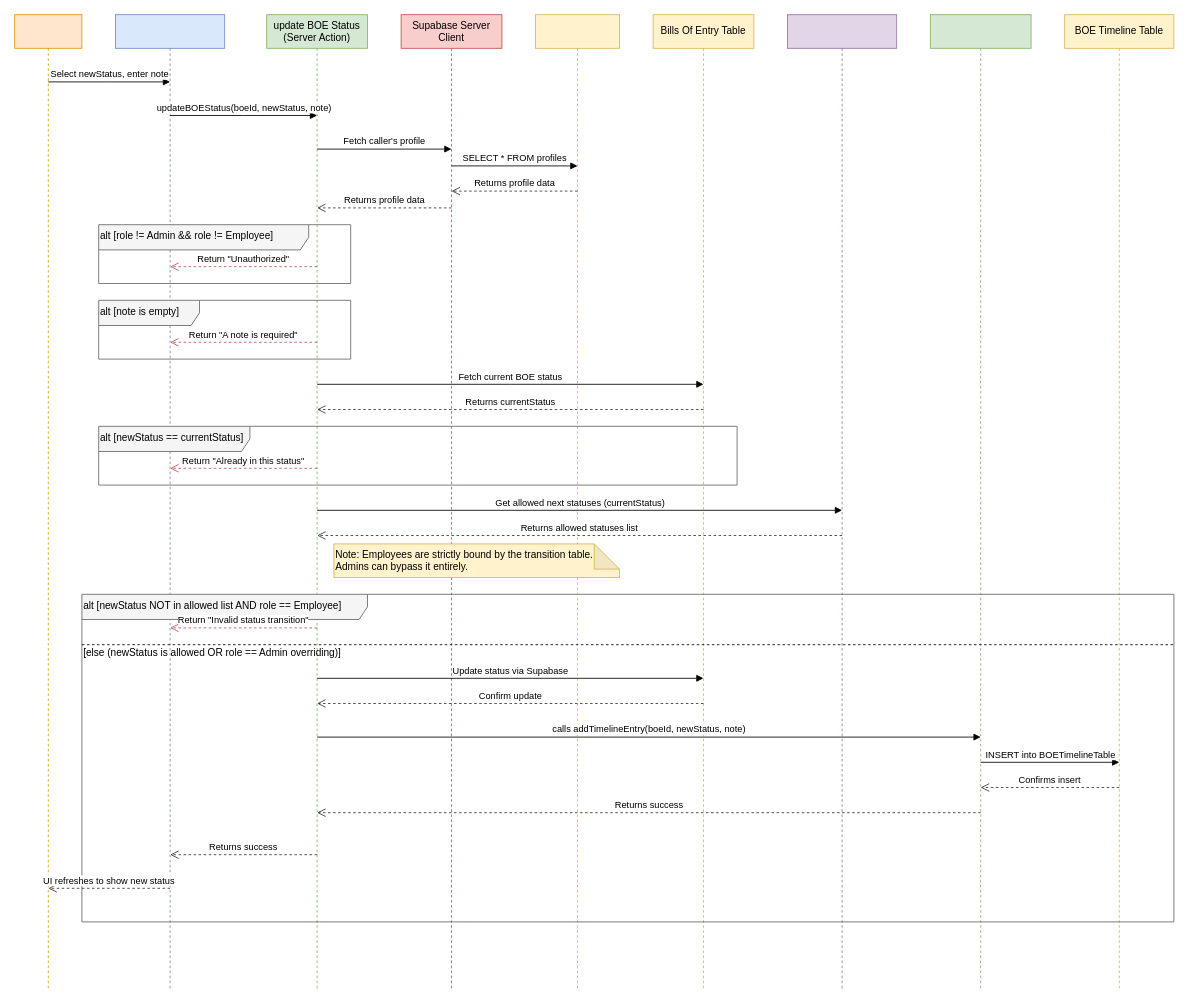
The diagram is 1189 pixels wide and 1004 high, and some of its shapes have lost their labels. Each missing label, with the box of its shape:
add Timeline Entry (Server Action): (929, 14, 1031, 989)
BOEStatusControl&#n;(Client Component): (115, 14, 225, 989)
ProfilesTable: (535, 14, 620, 989)
Transition Validator (ALLOWED_MAP): (787, 14, 897, 989)
User: (14, 14, 82, 989)
